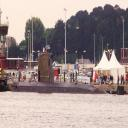submarine: (12, 54, 125, 95)
